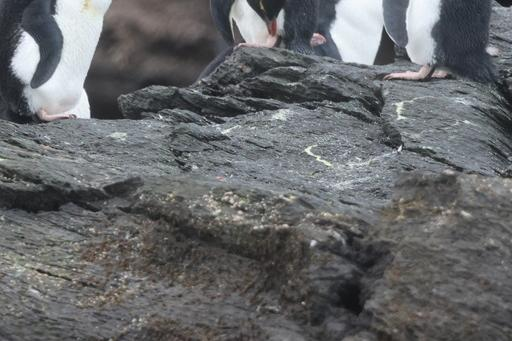Southern Rockhopper Penguin: (0, 0, 138, 146), (333, 0, 512, 101), (178, 0, 320, 56)
